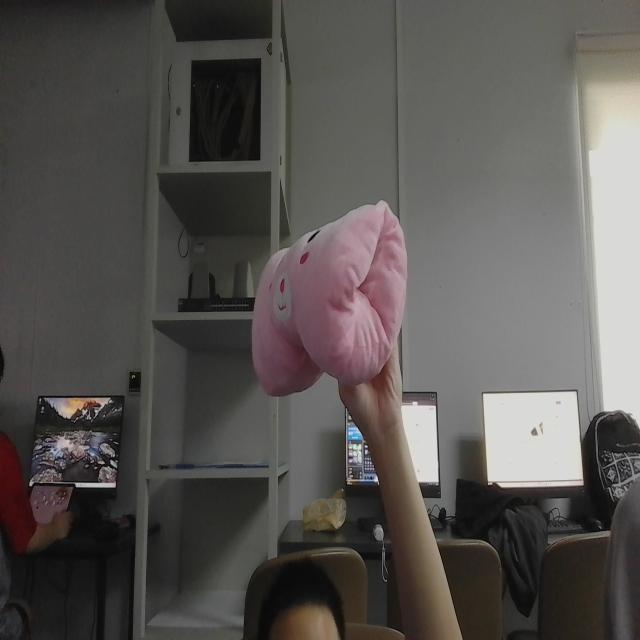pinkpillow: (244, 196, 410, 396)
